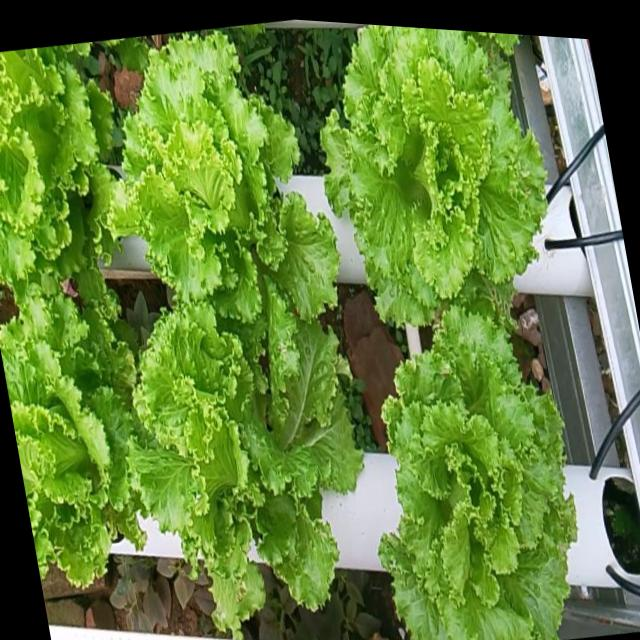Mature: (129, 315, 385, 640), (320, 25, 547, 331), (106, 34, 337, 329), (378, 305, 578, 640), (0, 302, 143, 598), (0, 51, 111, 324)
